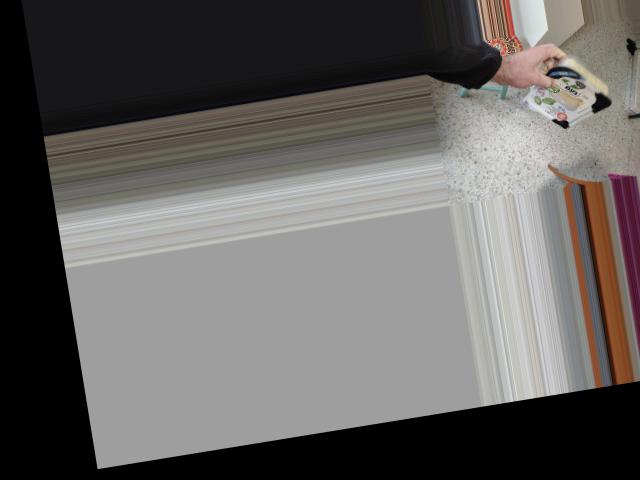cheese: (522, 27, 616, 143)
